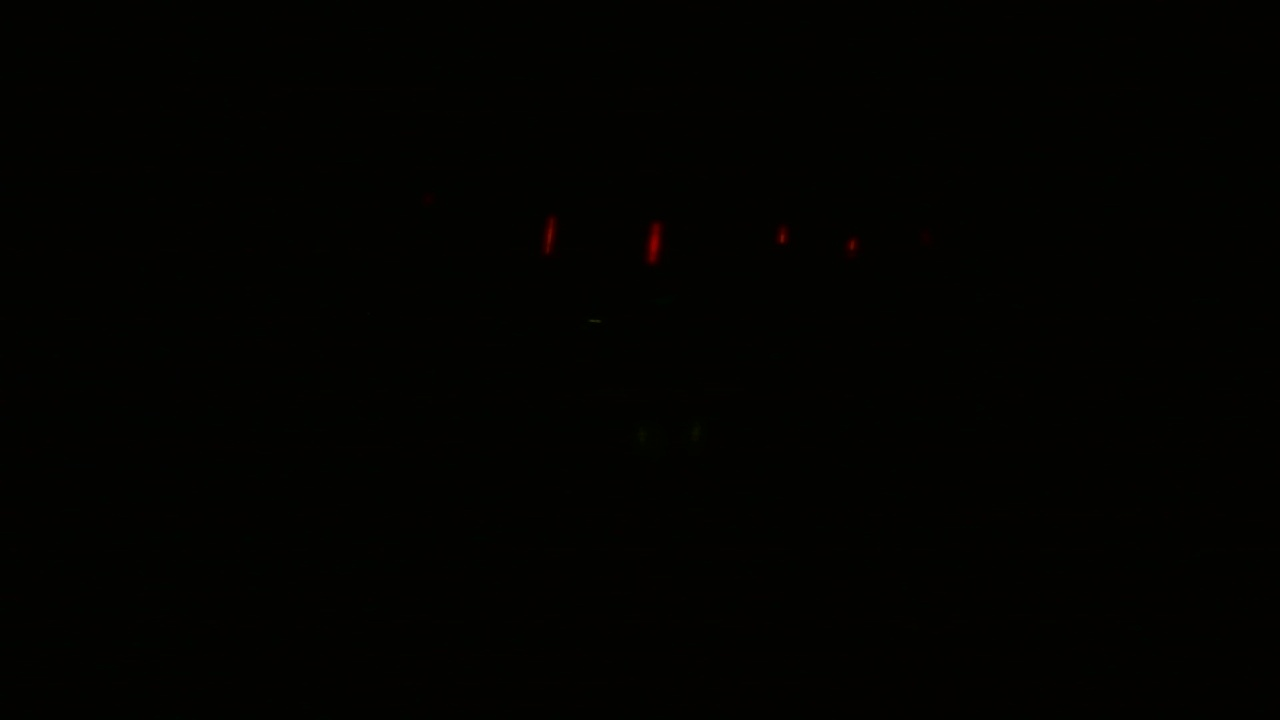pair1: (541, 213, 663, 264), (766, 219, 863, 261)
